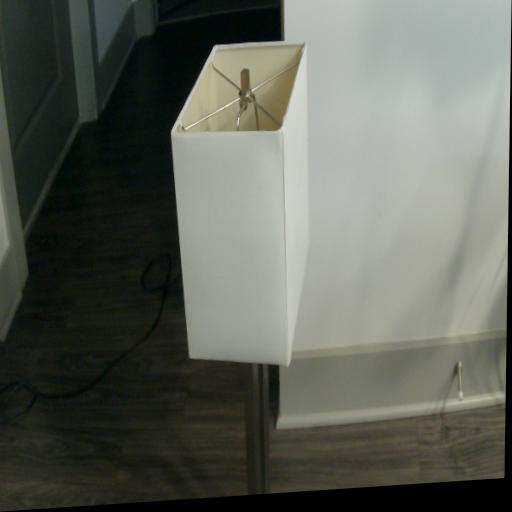lamp: (165, 38, 312, 500)
